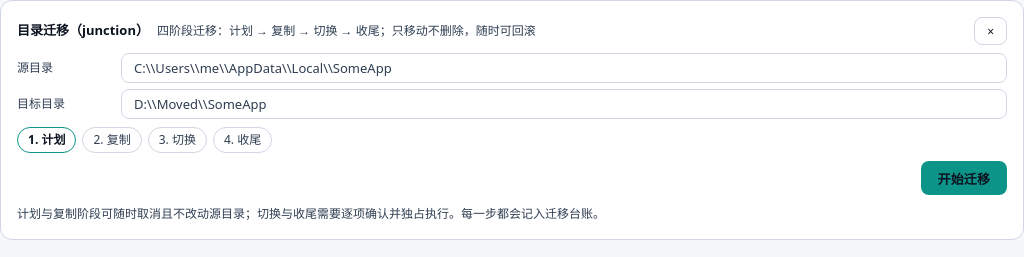
Test: gates destructive phases on the derived state and confirms cutover
Type "C:\\src" into the field labelled "源目录" at (564, 68), box [121,53,1007,83]
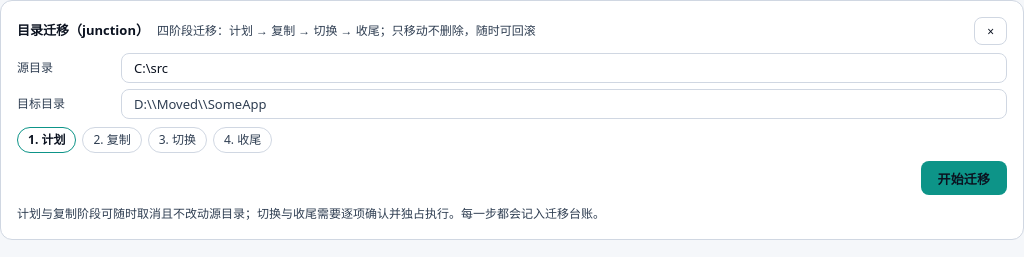
Type "D:\\dst" into the field labelled "目标目录" at (564, 104), box [121,89,1007,119]
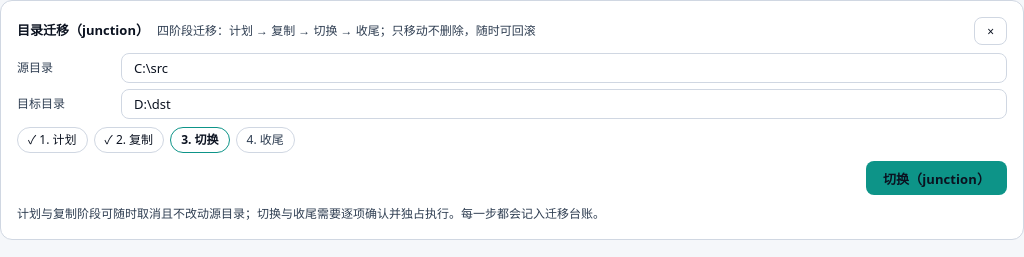
Expected: the button "收尾（删除备份）" is not shown
Result: the button "切换（junction）" is enabled
Click the button "切换（junction）" at (936, 178), box [866,161,1007,195]
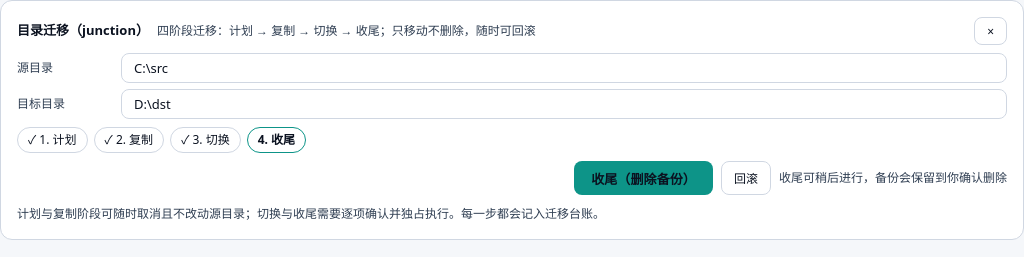
Result: the button "回滚" is shown at [721,161,771,195]
